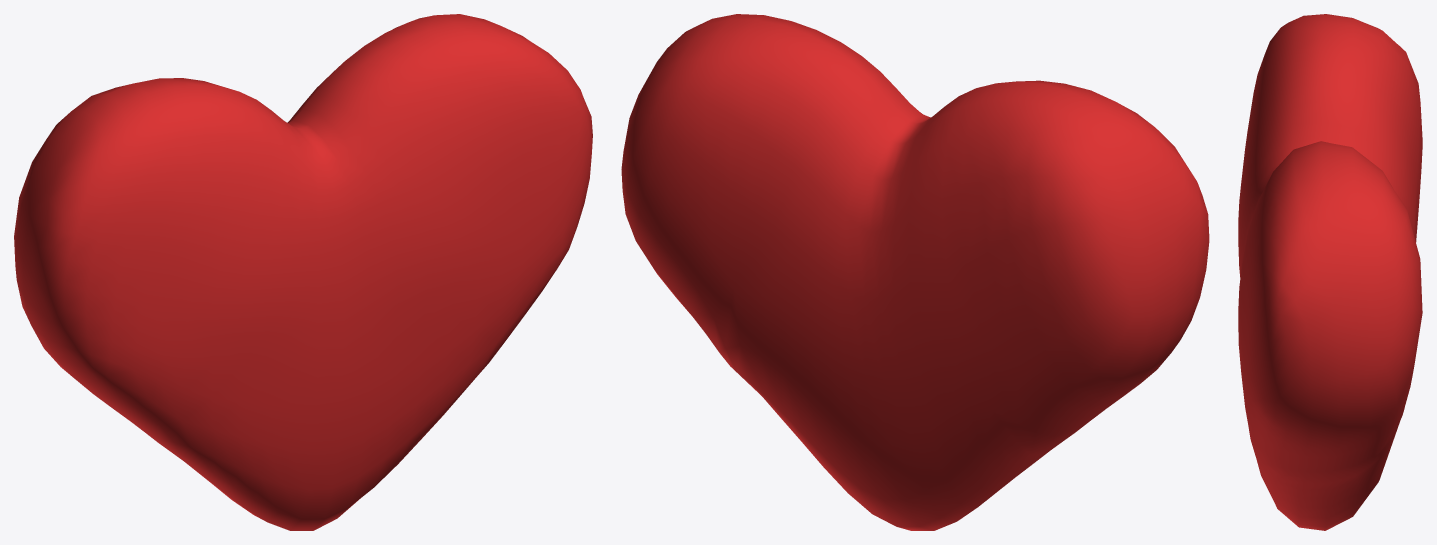
The model's file is Heart_Spin_Animation.fbx.
The picture shows the model from 3 angles, left to right: view 1: azimuth 30°, elevation 25°; view 2: azimuth 150°, elevation 25°; view 3: azimuth 270°, elevation 25°; orthographic projection. The views are drawn at different scales.
Parts seen in each view (by area): view 1: heart; view 2: heart; view 3: heart.
Part boxes in pixels (<box>): heart: <box>14,14,592,530</box>; heart: <box>621,14,1209,530</box>; heart: <box>1238,14,1422,530</box>.
Size of the model in its own units: 5.37 by 4.42 by 1.7.
